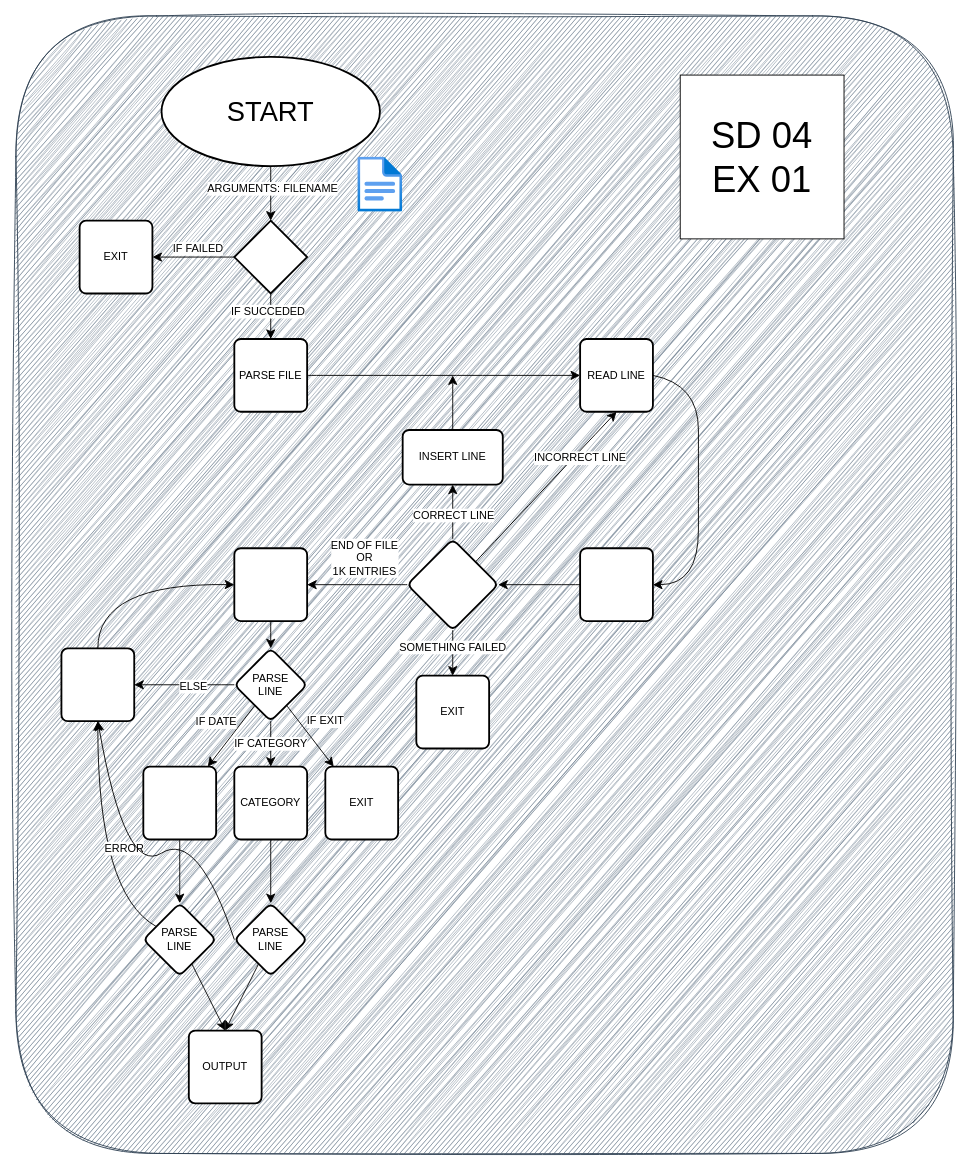
Some shapes in this 969 by 1169 pixel diagram are drawn without their labels. The centre of each missing label's shape, as x and y in pixels:
CHECK AFTER PARSE: the point at 452,584
DATE: the point at 179,802
MAIN LOOP: the point at 270,584
OPEN FILE: the point at 270,256
PARSE FILE LINE: the point at 616,584
PRINT ERROR MESSAGE: the point at 97,684
